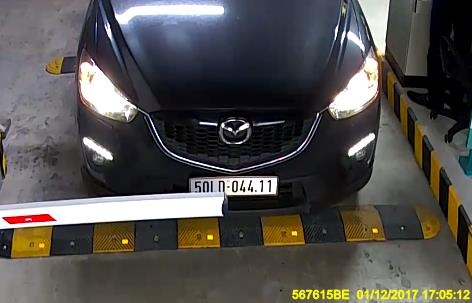plate: (189, 166, 279, 201)
